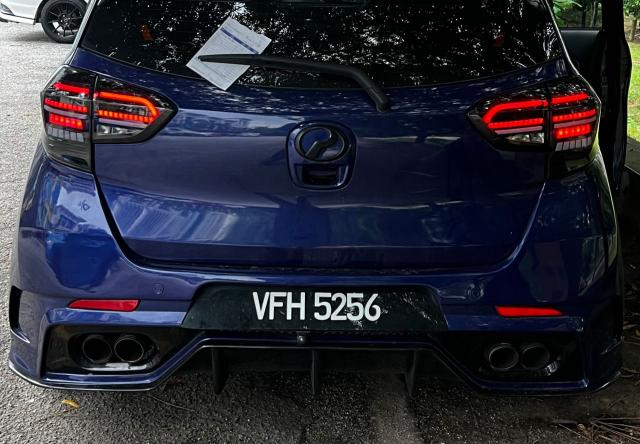License_Plate: (233, 286, 393, 329)
car: (13, 9, 640, 391)
